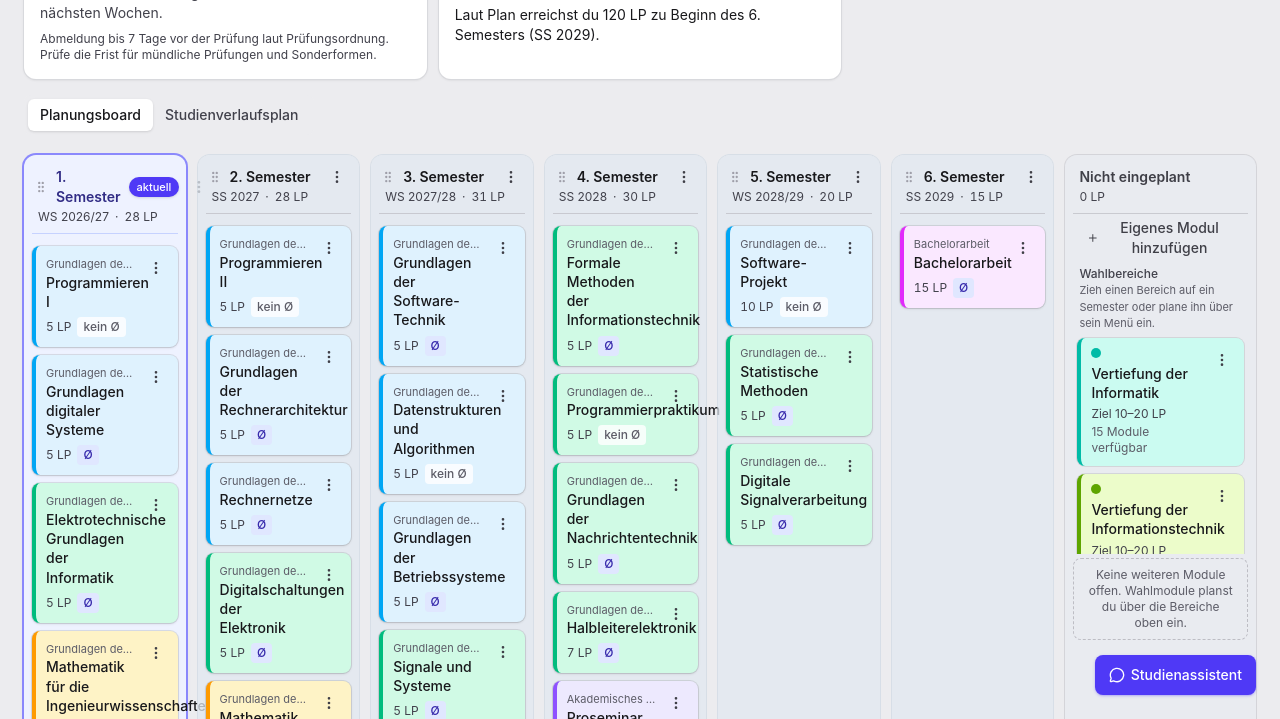
it: choice area tiles › plans a placeholder from the tile menu
(page scrolled)
Click the button named "Aktionen für Vertiefung der Informatik": (1222,360) [1206,344,1238,376]
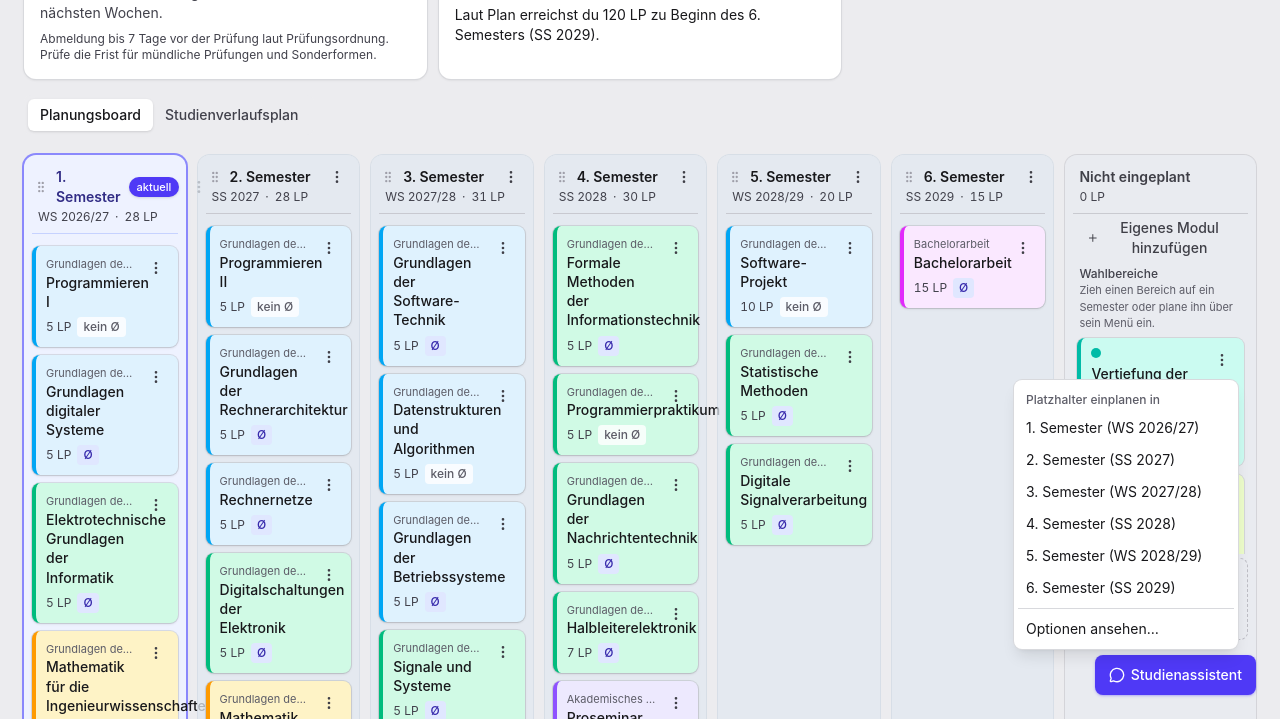
Click the menu item "5. Semester (WS 2028/29)": (1114,556) [1026,547,1202,564]
(page scrolled)
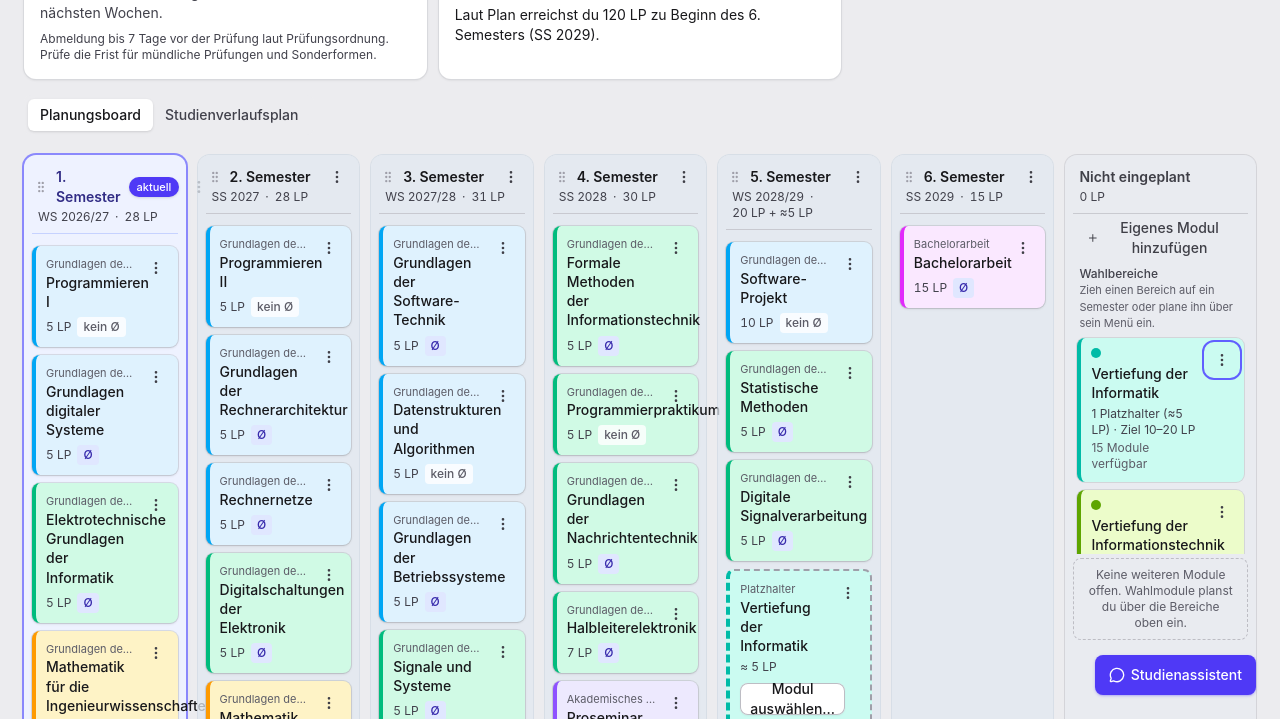
Expected: the list item with test id "placeholder-card" shows "Vertiefung der Informatik", [740,598,811,654]
Expected: the list item with test id "placeholder-card" shows "≈ 5 LP", [740,659,777,674]
Expected: the text "20 LP + ≈5 LP" is shown, [732,205,813,221]
